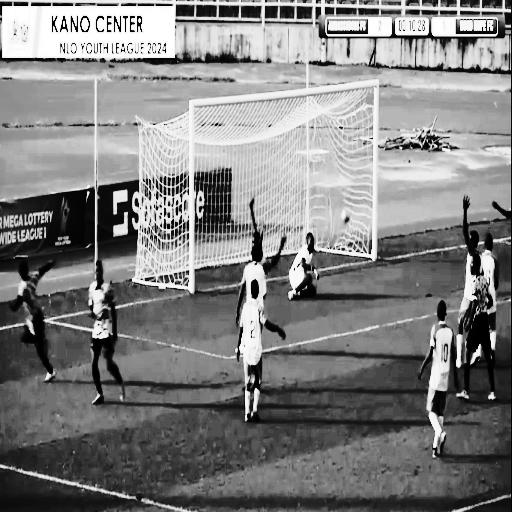ball: (337, 203, 353, 228)
keeper2: (281, 229, 324, 309)
team1: (3, 256, 67, 391), (456, 252, 503, 410), (86, 245, 129, 415)
team2: (230, 224, 280, 440), (420, 293, 462, 454), (482, 219, 500, 335)
